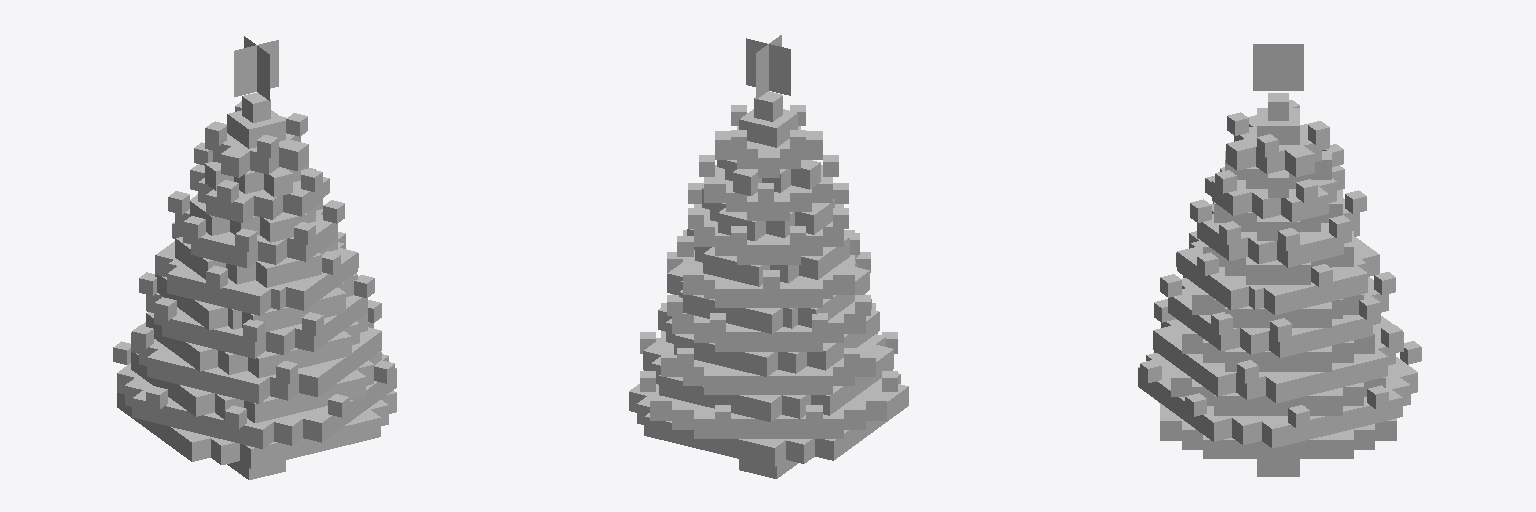
Rendered from 690_cmas_tree.obj.
The picture shows the model from 3 angles: view 1: azimuth 30°, elevation 25°; view 2: azimuth 150°, elevation 25°; view 3: azimuth 270°, elevation 25°; orthographic projection.
Parts seen in each view (by area): view 1: Shape32, Shape6, Shape14, Shape75, Star1, Shape3, Shape29, Shape26, Shape15, Shape19, Shape71, Shape23 (+28 smaller); view 2: Shape13, Shape31, Shape70, Shape7, Shape18, Shape27, Star1, Shape11, Shape68, Shape4, Shape43, Shape25 (+28 smaller); view 3: Shape30, Shape16, Shape5, Shape73, Star2, Shape24, Shape29, Shape21, Shape71, Shape15, Shape9, Shape74 (+28 smaller).
Boxes of the visible parts, x1,y1,x2,y2 form: Shape32: [147, 350, 269, 403]; Shape6: [132, 390, 273, 448]; Shape14: [240, 410, 380, 468]; Shape75: [167, 266, 270, 315]; Star1: [234, 40, 278, 122]; Shape3: [162, 310, 265, 358]; Shape29: [299, 327, 381, 396]; Shape26: [244, 370, 365, 422]; Shape15: [303, 368, 396, 442]; Shape19: [248, 331, 351, 377]; Shape71: [286, 248, 357, 310]; Shape23: [242, 287, 345, 332]; Shape13: [694, 410, 843, 438]; Shape31: [704, 367, 832, 394]; Shape70: [715, 280, 822, 307]; Shape7: [644, 413, 785, 467]; Shape18: [715, 323, 822, 351]; Shape27: [659, 375, 781, 421]; Star1: [746, 38, 790, 121]; Shape11: [674, 334, 777, 376]; Shape68: [679, 290, 782, 333]; Shape4: [815, 384, 908, 460]; Shape43: [737, 236, 800, 264]; Shape25: [811, 345, 893, 415]; Shape30: [1266, 349, 1387, 403]; Shape16: [1262, 390, 1402, 448]; Shape5: [1203, 430, 1353, 458]; Shape73: [1264, 266, 1367, 314]; Star2: [1253, 44, 1303, 90]; Shape24: [1214, 387, 1342, 415]; Shape29: [1153, 326, 1235, 396]; Shape21: [1269, 315, 1372, 357]; Shape71: [1177, 247, 1248, 309]; Shape15: [1138, 367, 1231, 441]; Shape9: [1225, 346, 1331, 371]; Shape74: [1225, 302, 1331, 327].
Size of the model in its own units: 3.26 by 5.42 by 3.29.